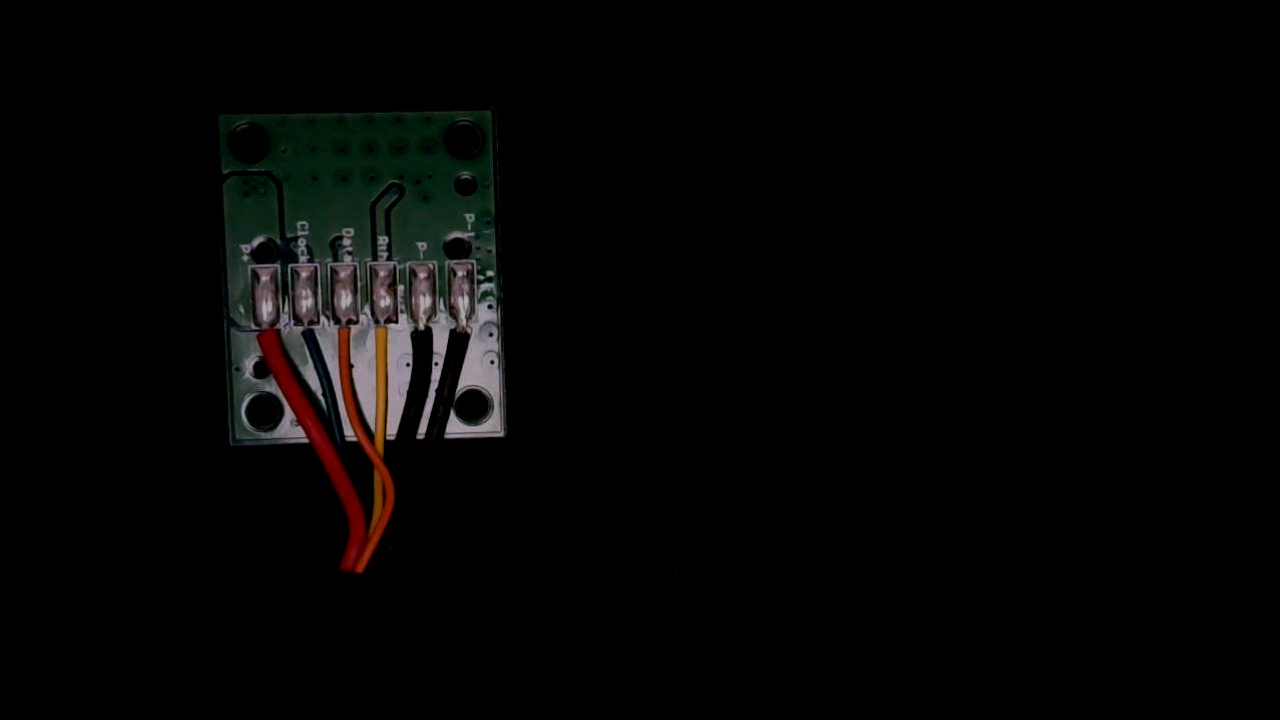Black: (407, 305, 438, 373)
Black1: (445, 304, 478, 371)
Green: (290, 307, 324, 369)
Orange: (330, 302, 362, 374)
Red: (248, 308, 283, 378)
Yellow: (366, 303, 400, 377)
